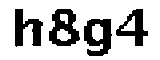4: (115, 8, 153, 50)
8: (47, 8, 81, 47)
g: (82, 16, 115, 59)
h: (9, 5, 43, 51)
